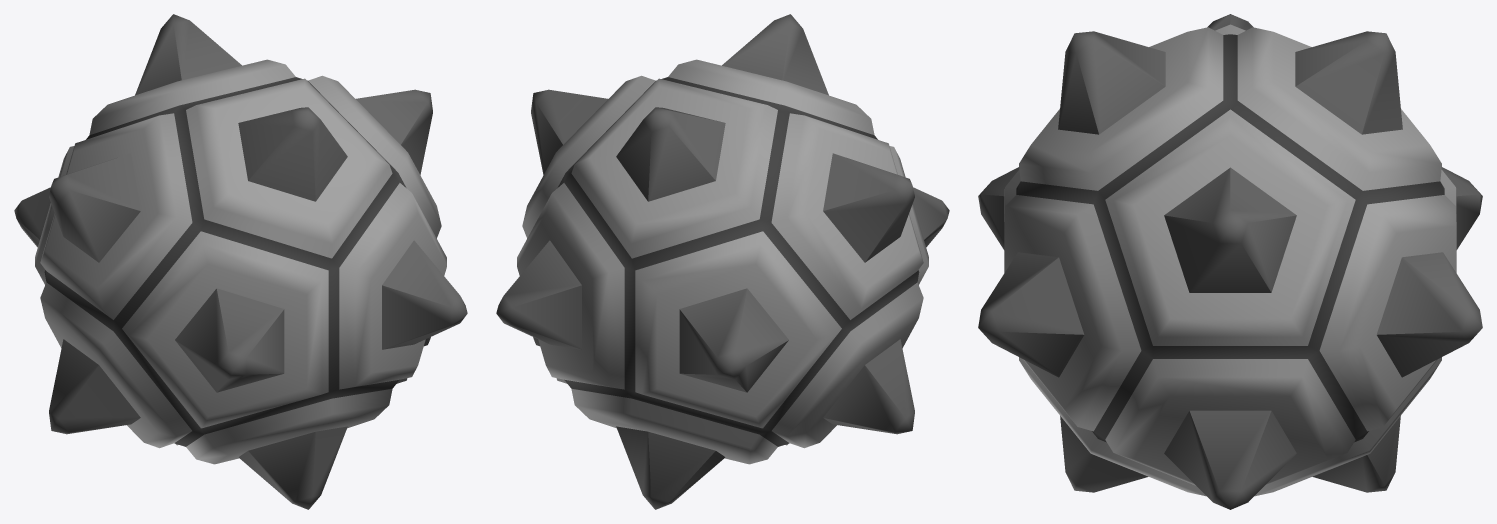
The model's file is prop_075.fbx.
3 views of the same model, side by side, from view 1: azimuth 30°, elevation 25°; view 2: azimuth 150°, elevation 25°; view 3: azimuth 270°, elevation 25° (orthographic). The views are drawn at different scales.
Visible parts, largest first — view 1: prop.075; view 2: prop.075; view 3: prop.075.
Part boxes in pixels (x1,y1,x2,y2): prop.075: [14, 14, 467, 509]; prop.075: [496, 14, 949, 509]; prop.075: [978, 14, 1482, 509].
Bounding box in the file's own units: 254 × 254 × 254.
Materials: 1 (1 with a texture image).
